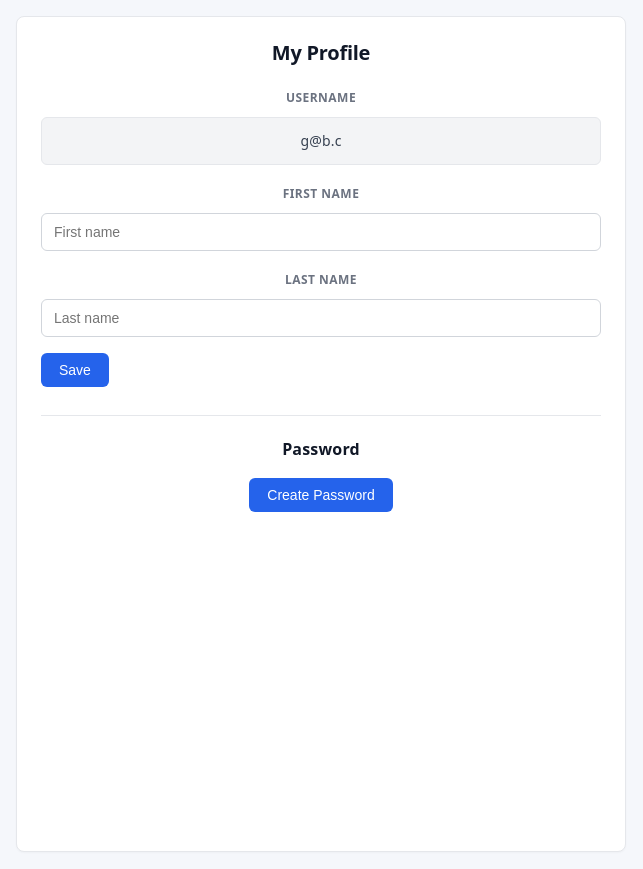
Test case: Profile page › creates password for Google-auth users without current password
The image size is (643, 869).
Click the button "Create Password" at (321, 495), box left=249, top=478, right=393, bottom=512
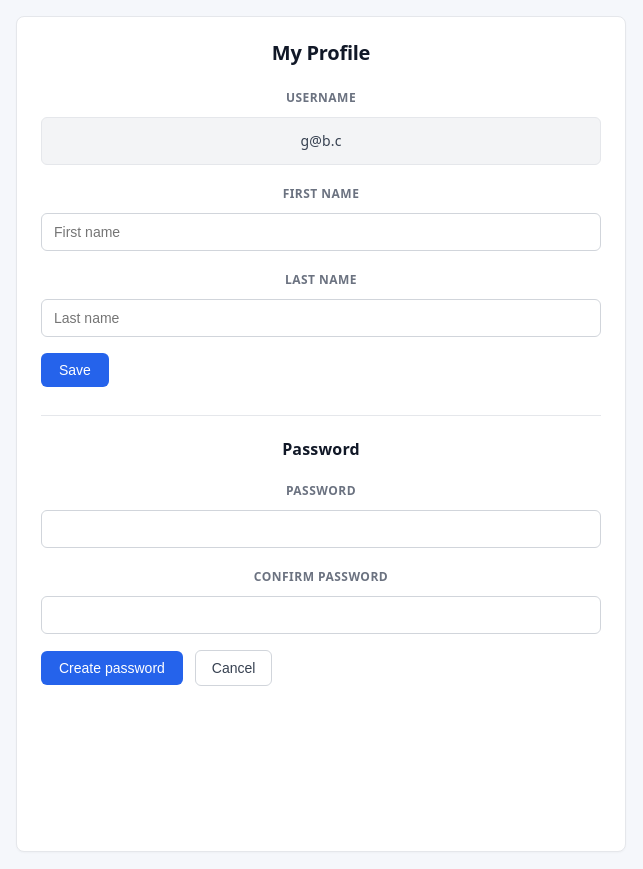
Type "fresh-pw" into the password field labelled "Password" at (321, 529), box left=41, top=510, right=601, bottom=548
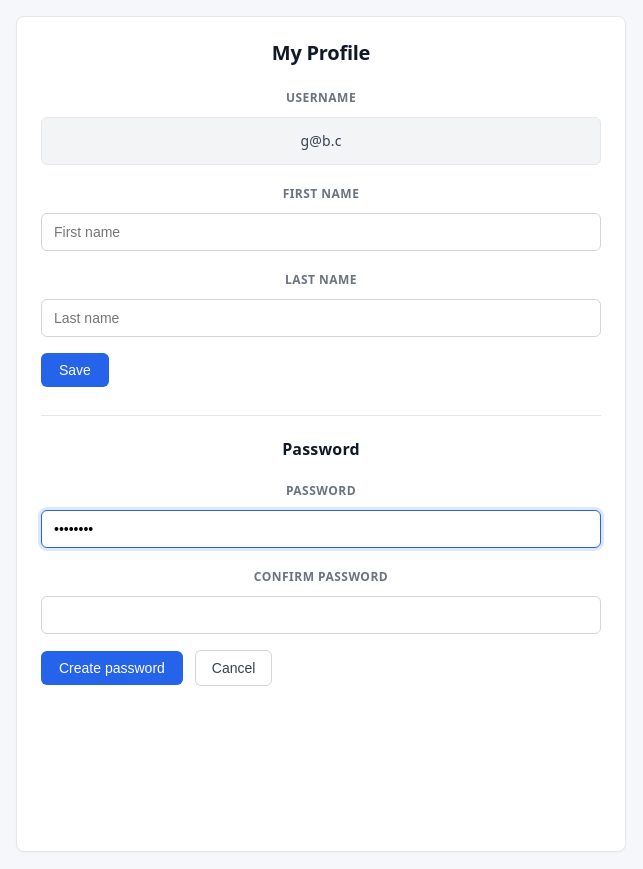
Type "fresh-pw" into the password field labelled "Confirm password" at (321, 615), box left=41, top=596, right=601, bottom=634
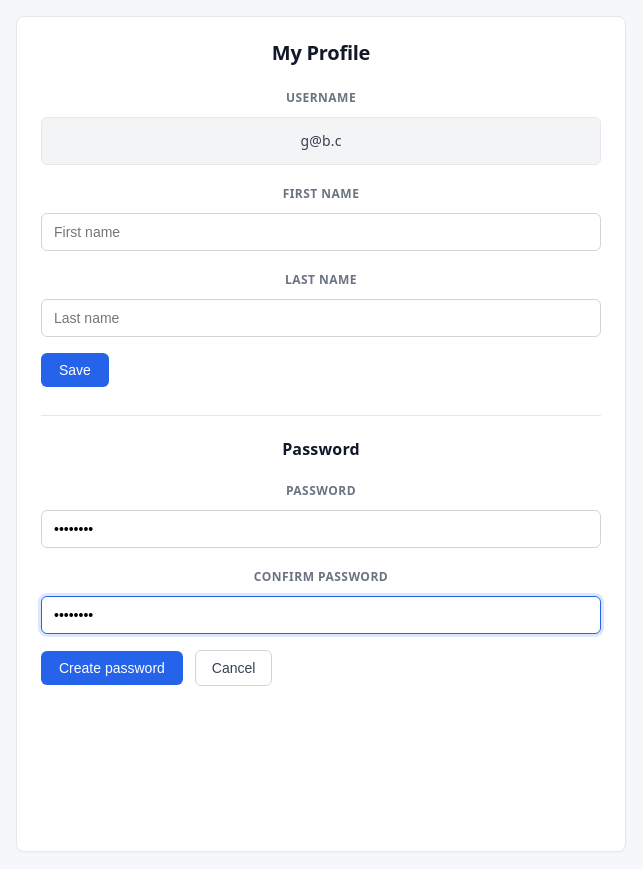
Click the button "Create password" at (112, 668), box left=41, top=651, right=183, bottom=685
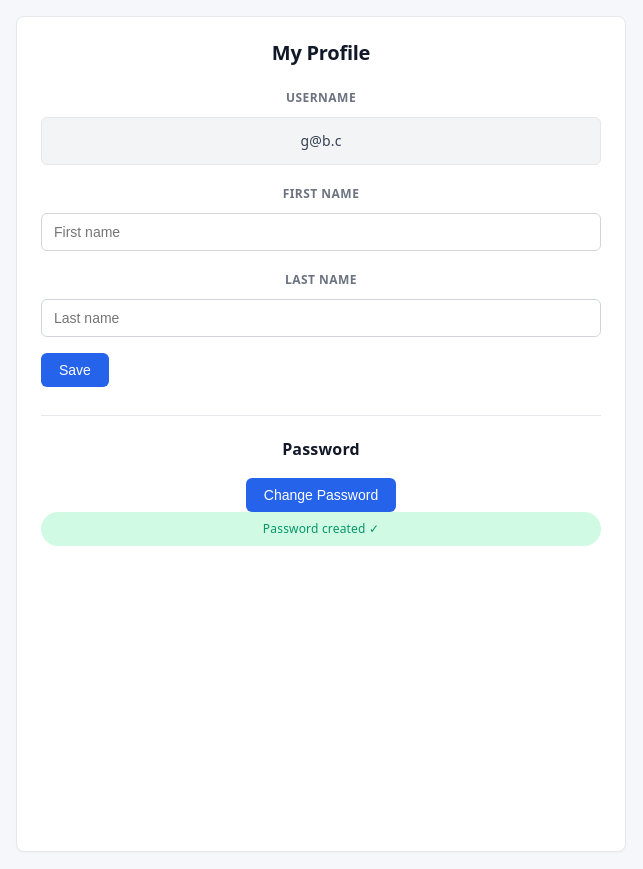
Expected: the text "Password created ✓" is shown, left=41, top=512, right=601, bottom=546
